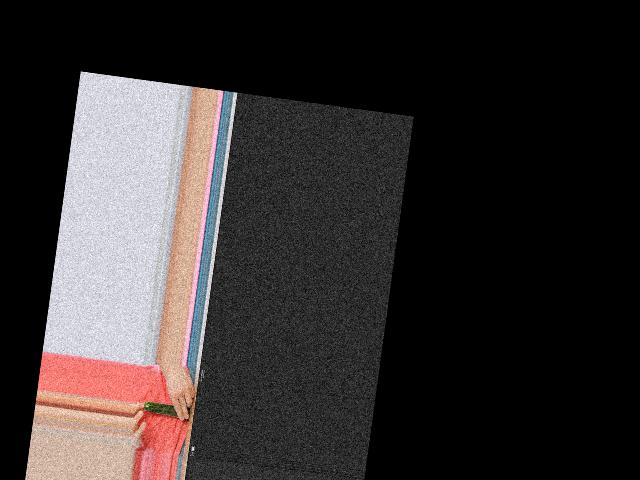cucumber: (143, 400, 179, 416)
